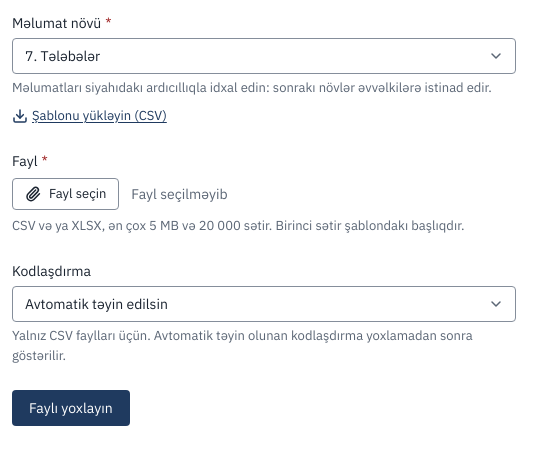
UploadForm › asks for a file before uploading
Click the button "Faylı yoxlayın" at (71, 408), box [12,390,130,426]
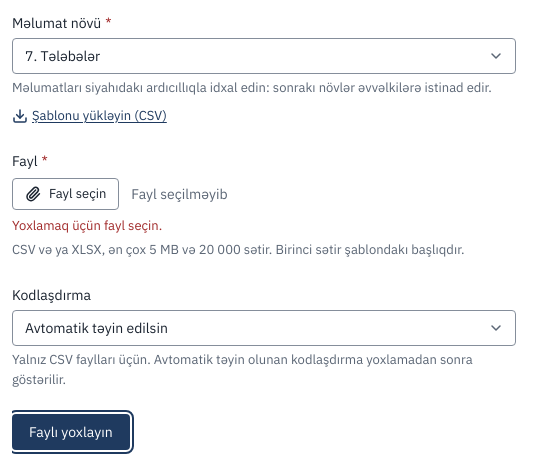
Expected: the text "Yoxlamaq üçün fayl seçin." is shown, [12,217,162,234]
